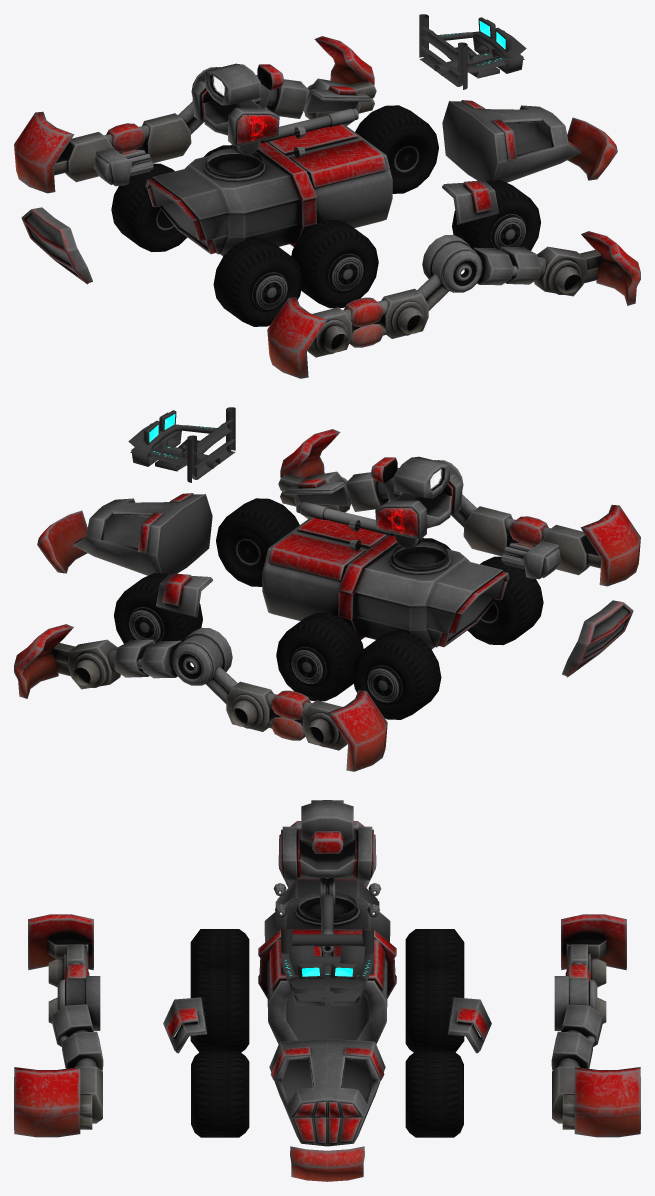
The model's file is SM_AIV_Paint_Cage.fbx.
3 views of the same model, one above another, from view 1: azimuth 30°, elevation 25°; view 2: azimuth 150°, elevation 25°; view 3: azimuth 270°, elevation 25° (orthographic). The views are drawn at different scales.
Parts seen in each view (by area): view 1: Body_Hull_cage, Wheels_cage, Cannon_cage; view 2: Body_Hull_cage, Wheels_cage, Cannon_cage; view 3: Body_Hull_cage, Wheels_cage, Cannon_cage.
Part boxes in pixels (<box>): Body_Hull_cage: <box>14,14,640,378</box>; Wheels_cage: <box>111,105,540,326</box>; Cannon_cage: <box>203,108,358,181</box>; Body_Hull_cage: <box>14,407,640,771</box>; Wheels_cage: <box>114,498,543,719</box>; Cannon_cage: <box>296,501,451,574</box>; Body_Hull_cage: <box>14,800,640,1181</box>; Wheels_cage: <box>190,929,464,1137</box>; Cannon_cage: <box>294,878,360,954</box>.
Bounding box in the file's own units: 1184 × 1076 × 407.
Materials: 1 (1 with a texture image).
